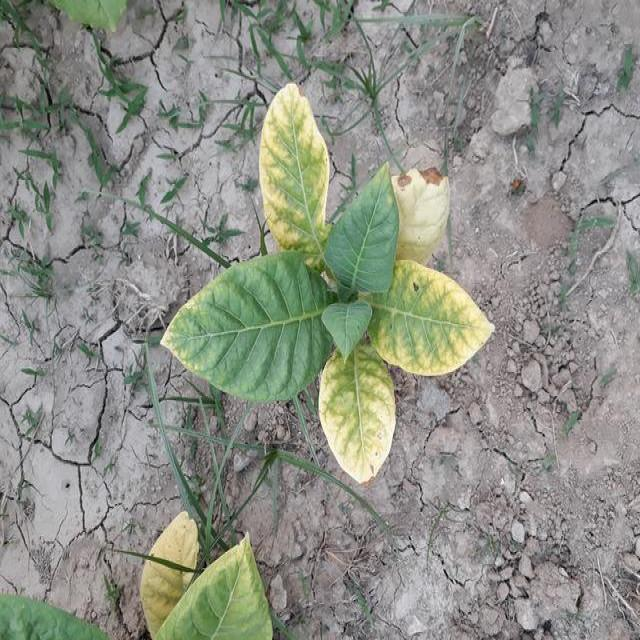crop: (178, 95, 502, 487), (127, 513, 262, 640)
